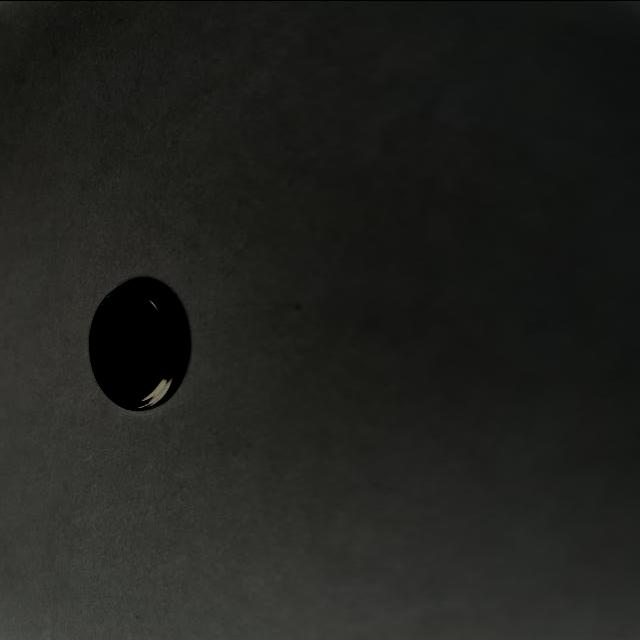COIN: (79, 268, 190, 413)
